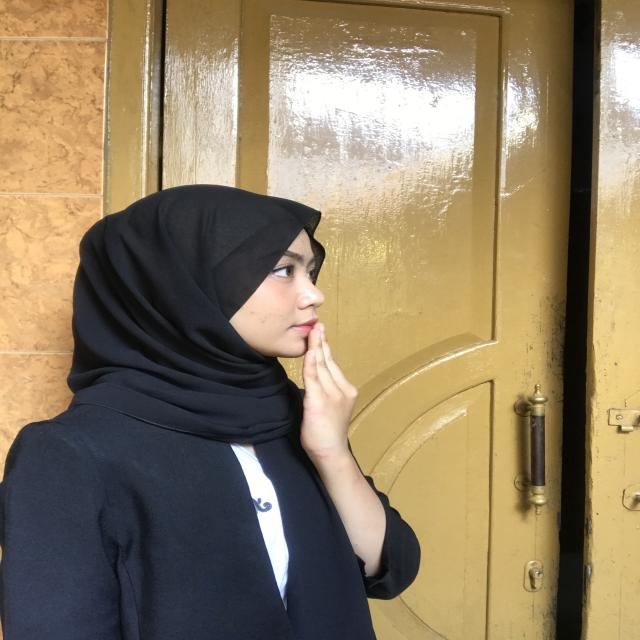ganteng: (265, 303, 389, 512)
